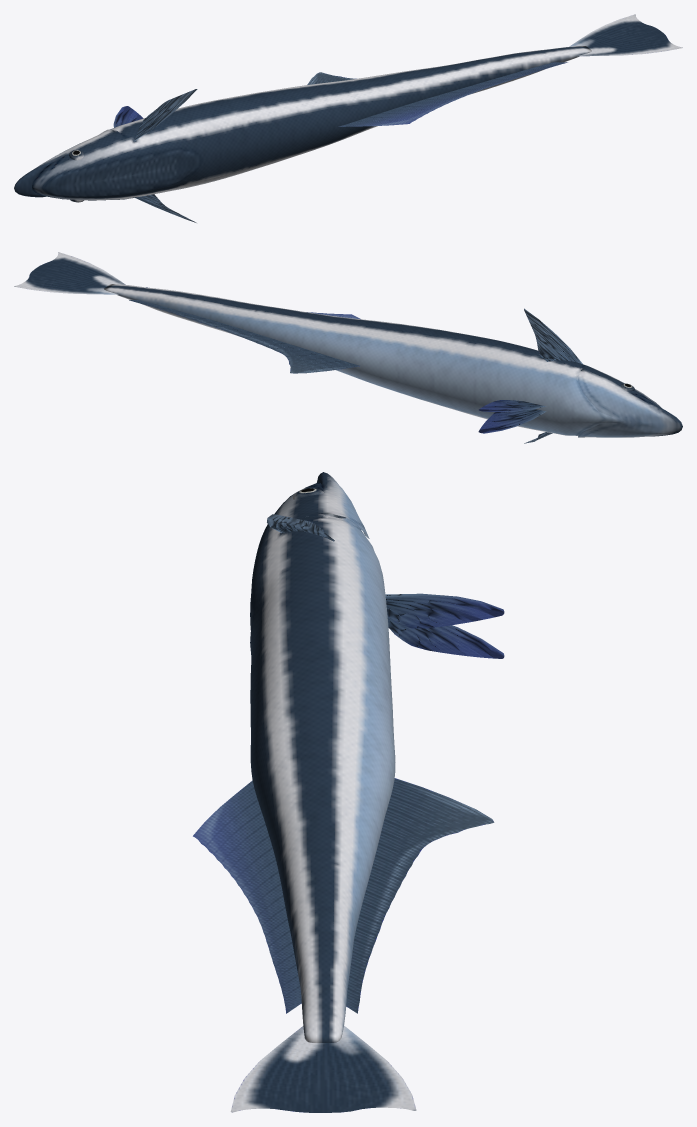
File: fish29.obj
The picture shows the model from 3 angles, top to bottom: view 1: azimuth 30°, elevation 25°; view 2: azimuth 150°, elevation 25°; view 3: azimuth 270°, elevation 25°; orthographic projection. The views are drawn at different scales.
Size of the model in its own units: 39.99 by 7.96 by 8.35.
Materials: 1 (1 with a texture image).
